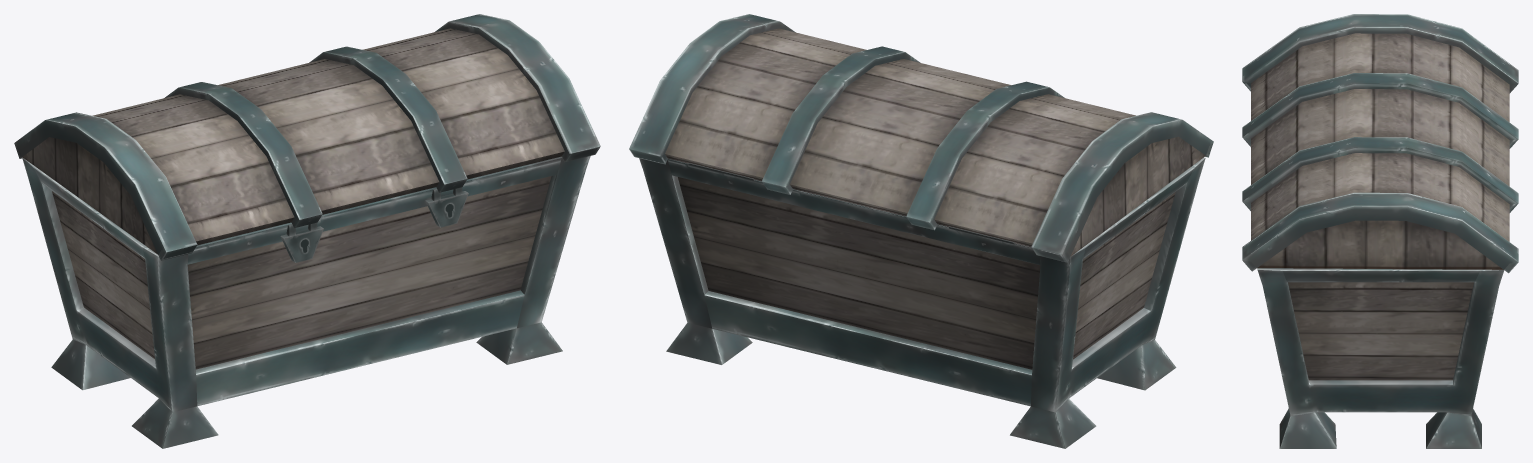
Rendered from chest_010.FBX.
3 renders of one model, left to right at view 1: azimuth 30°, elevation 25°; view 2: azimuth 150°, elevation 25°; view 3: azimuth 270°, elevation 25°, orthographic. The views are drawn at different scales.
Visible parts, largest first — view 1: chest_0102, chest; view 2: chest_0102, chest; view 3: chest, chest_0102.
Part boxes in pixels (bbox=[...]): chest_0102: bbox=[22, 156, 590, 448]; chest: bbox=[14, 14, 600, 260]; chest_0102: bbox=[639, 157, 1205, 448]; chest: bbox=[629, 14, 1213, 262]; chest: bbox=[1242, 14, 1518, 273]; chest_0102: bbox=[1257, 268, 1504, 448].
Size of the model in its own units: 23.3 by 13.98 by 13.99.
